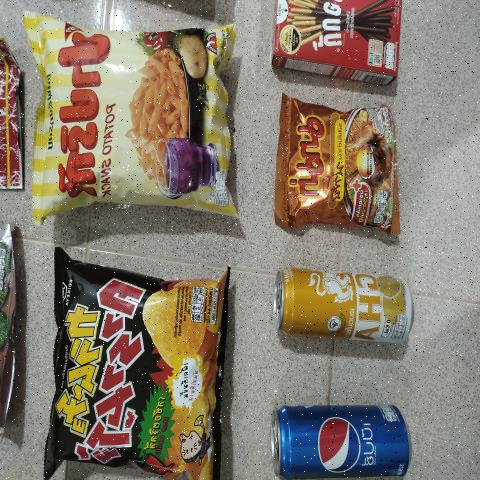karamujo: (47, 265, 224, 477)
mama: (278, 103, 402, 233)
paprika: (36, 25, 232, 203)
pepsi_blue: (271, 403, 413, 480)
pokki: (271, 0, 399, 69)
singha_yellow: (270, 268, 418, 349)
